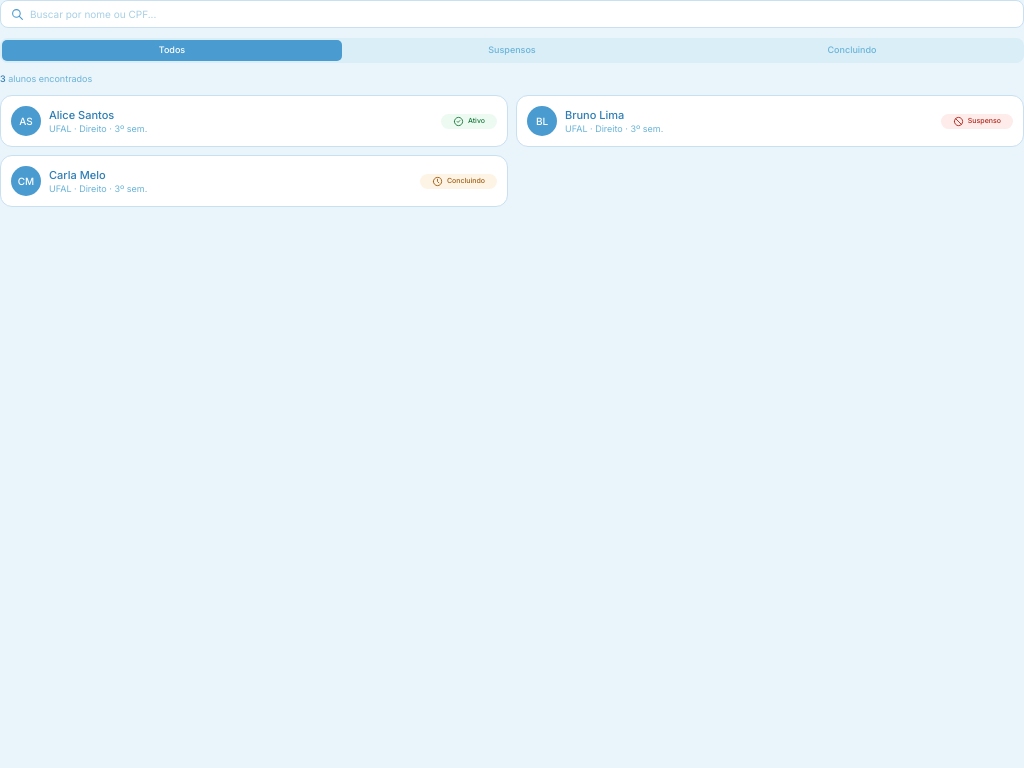
Test: AlunosPage — reativação rápida pelo badge Suspenso › clicar no badge Suspenso abre modal de confirmação
Click the button "Suspenso" at (977, 121), box [941,114,1013,129]
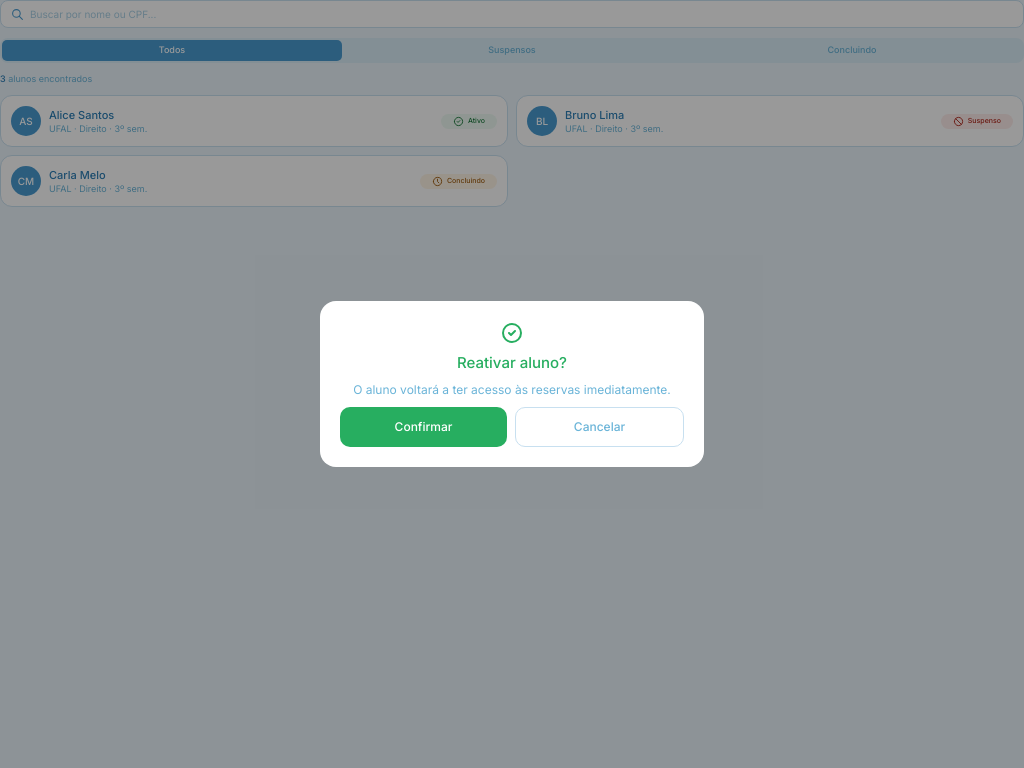
Now the dialog is shown, box [320,301,704,467]
